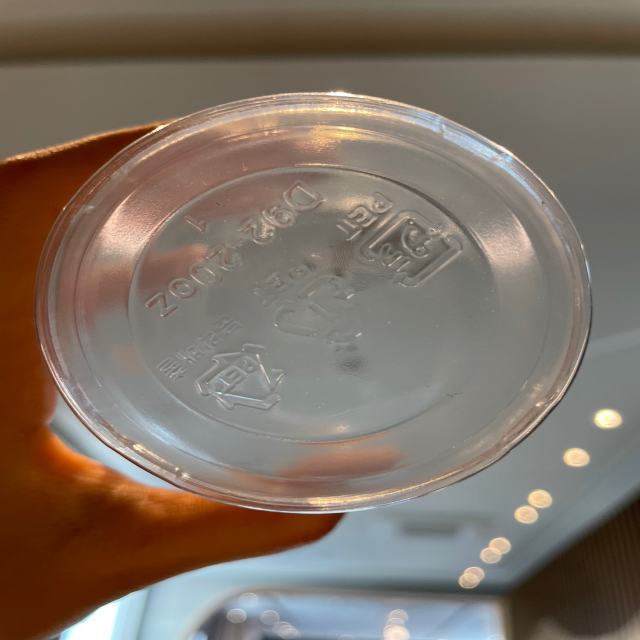pet: (146, 309, 299, 424), (330, 180, 472, 293), (238, 246, 379, 349)
